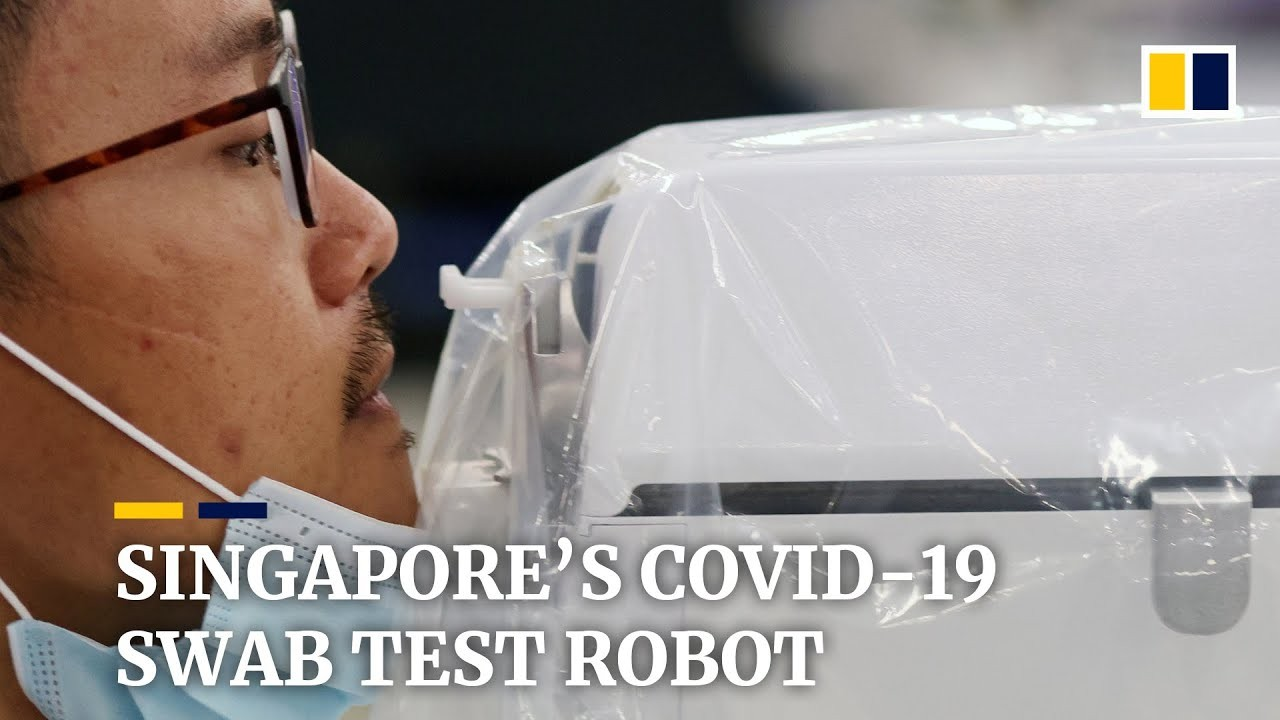mask_weared_incorrect: (18, 15, 441, 720)
